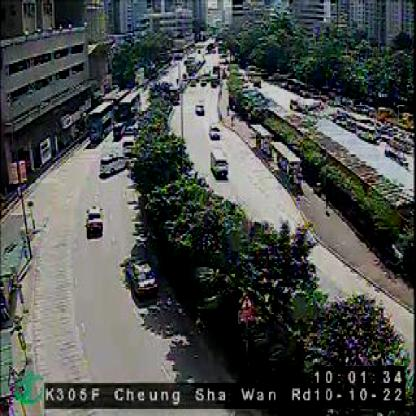Bus: (268, 140, 304, 192), (211, 149, 231, 178)
Car: (120, 256, 159, 299), (98, 150, 126, 179), (86, 200, 104, 236), (210, 125, 222, 139), (196, 101, 206, 114)
